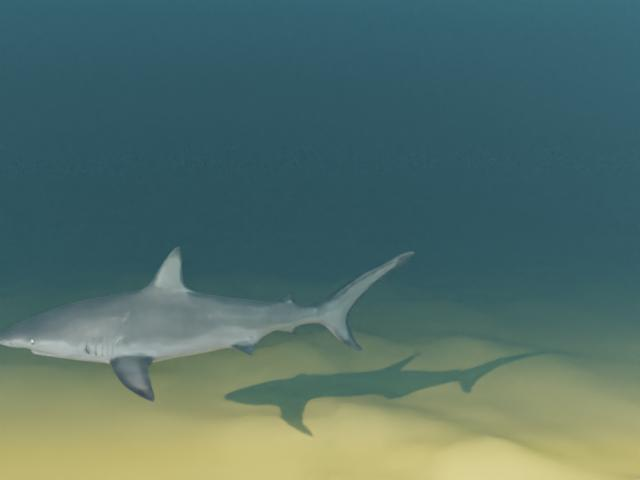Carribean Shark.001: (0, 246, 415, 402)
